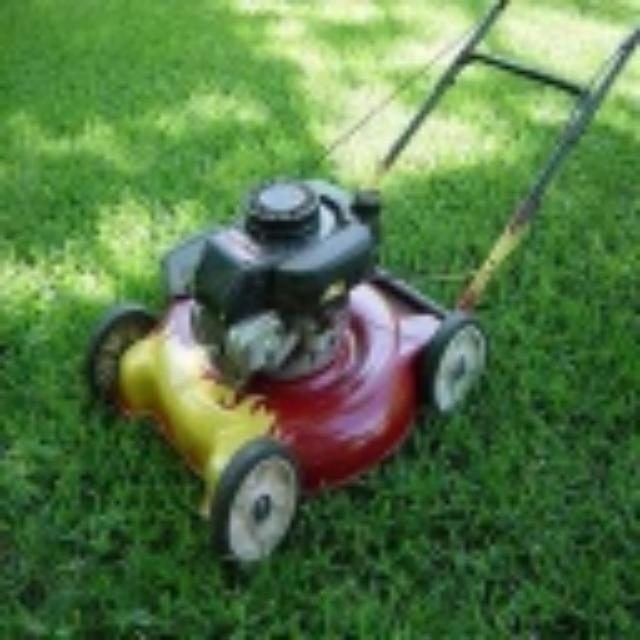Rotary-Mower: (66, 0, 640, 570)
